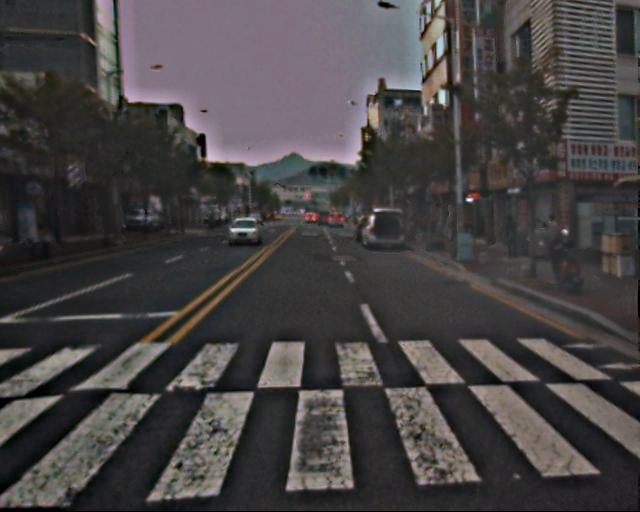person: (544, 212, 565, 264), (501, 212, 520, 259)
